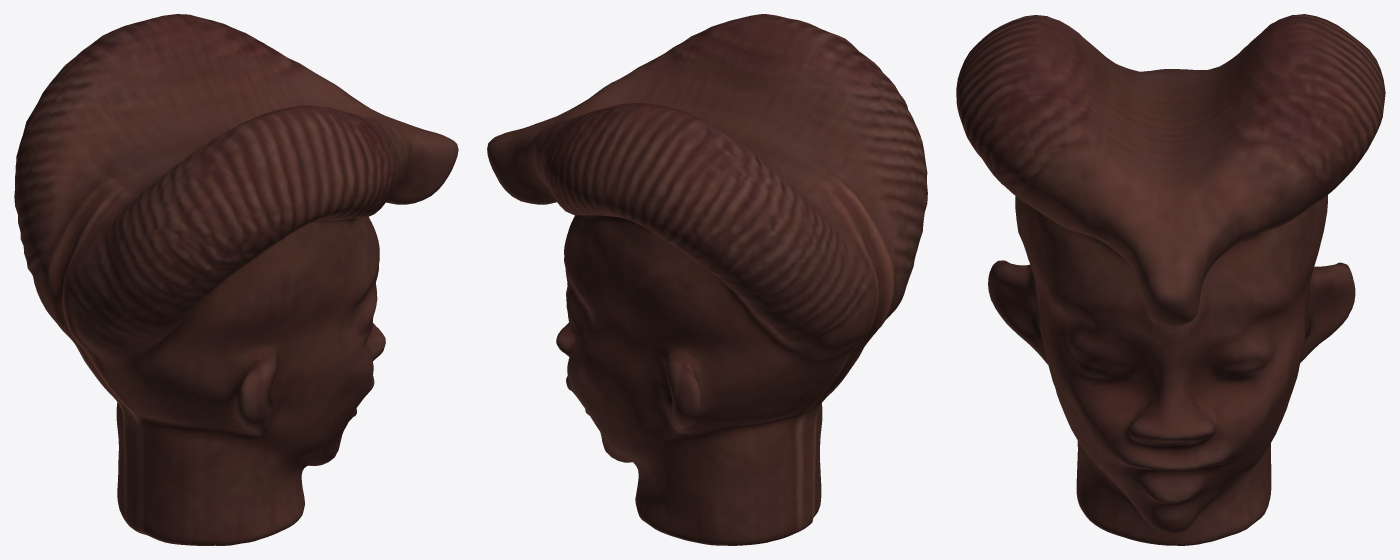
The picture shows the model from 3 angles, left to right: view 1: azimuth 30°, elevation 25°; view 2: azimuth 150°, elevation 25°; view 3: azimuth 270°, elevation 25°; orthographic projection. The views are drawn at different scales.
Visible parts, largest first — view 1: mesh; view 2: mesh; view 3: mesh.
Part boxes in pixels (x1,y1,x2,y2): mesh: (14,14,458,545); mesh: (487,14,927,545); mesh: (956,14,1385,545).
Size of the model in its own units: 0.9389 by 0.9993 by 0.8106.
Materials: 1 (1 with a texture image).
